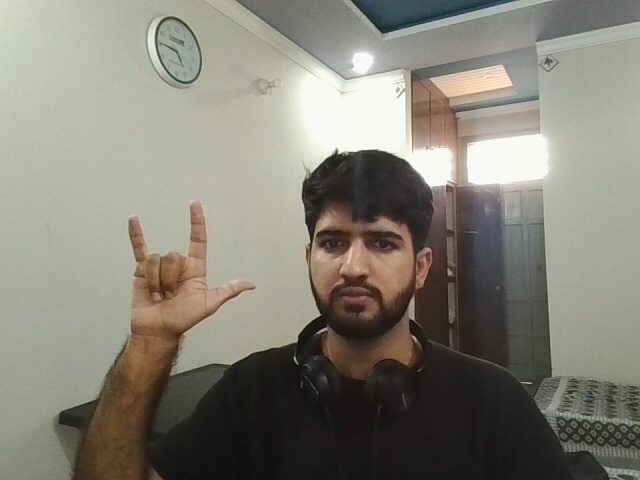I Love You: (85, 185, 264, 337)
